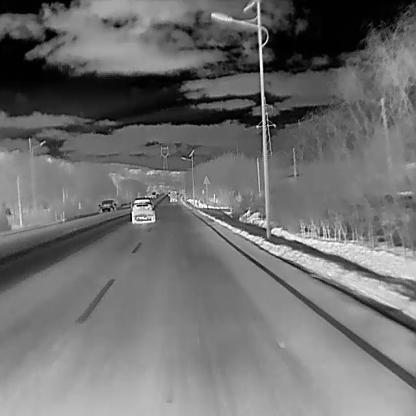bus: (168, 189, 177, 203), (150, 190, 156, 198)
car: (130, 195, 156, 224), (96, 198, 118, 214)
